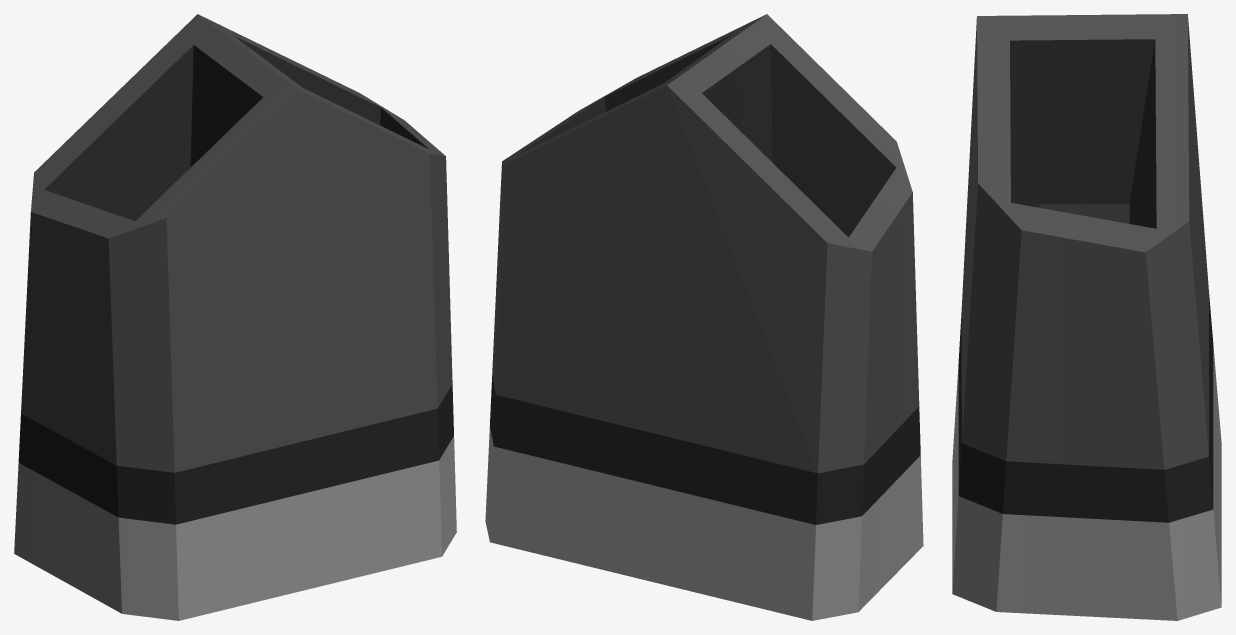
The model's file is Cargo_drone_001_engine_002.fbx.
The picture shows the model from 3 angles, left to right: view 1: azimuth 30°, elevation 25°; view 2: azimuth 150°, elevation 25°; view 3: azimuth 270°, elevation 25°; orthographic projection. The views are drawn at different scales.
Parts seen in each view (by area): view 1: Cargo_drone_001_engine_002; view 2: Cargo_drone_001_engine_002; view 3: Cargo_drone_001_engine_002.
Boxes of the visible parts, box(x1,y1,x2,y2) form: Cargo_drone_001_engine_002: box(14, 14, 456, 620); Cargo_drone_001_engine_002: box(485, 14, 923, 620); Cargo_drone_001_engine_002: box(952, 14, 1221, 620).
Size of the model in its own units: 28.72 by 17.02 by 35.84.
